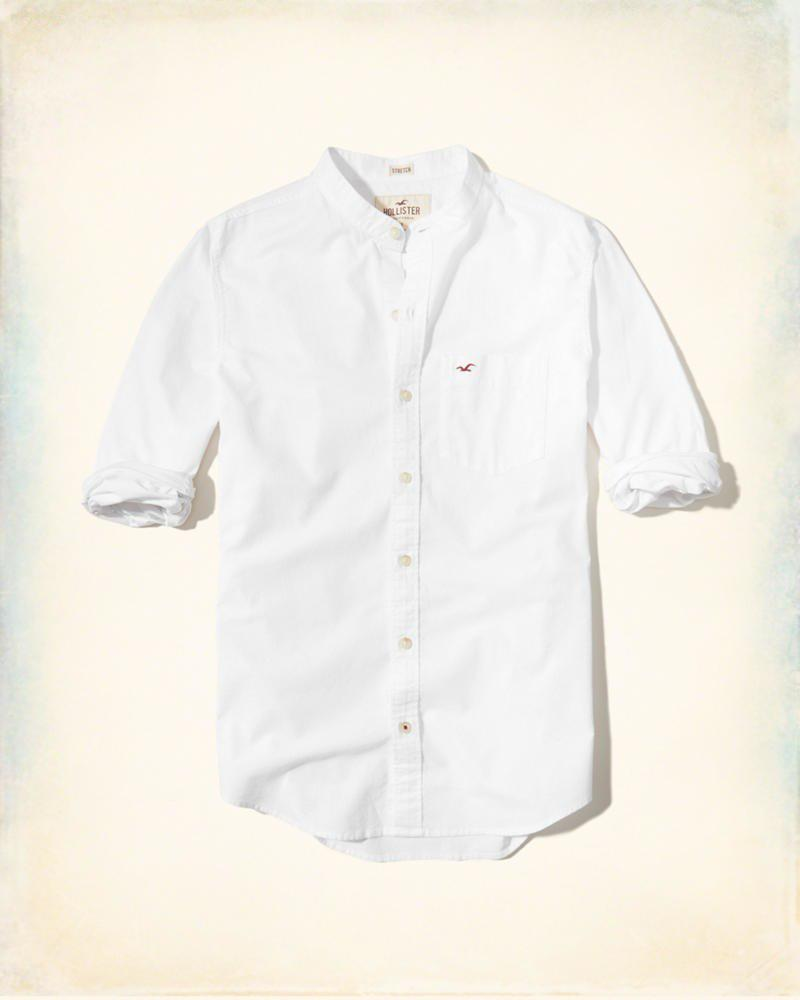teeshirt: (92, 139, 733, 889)
